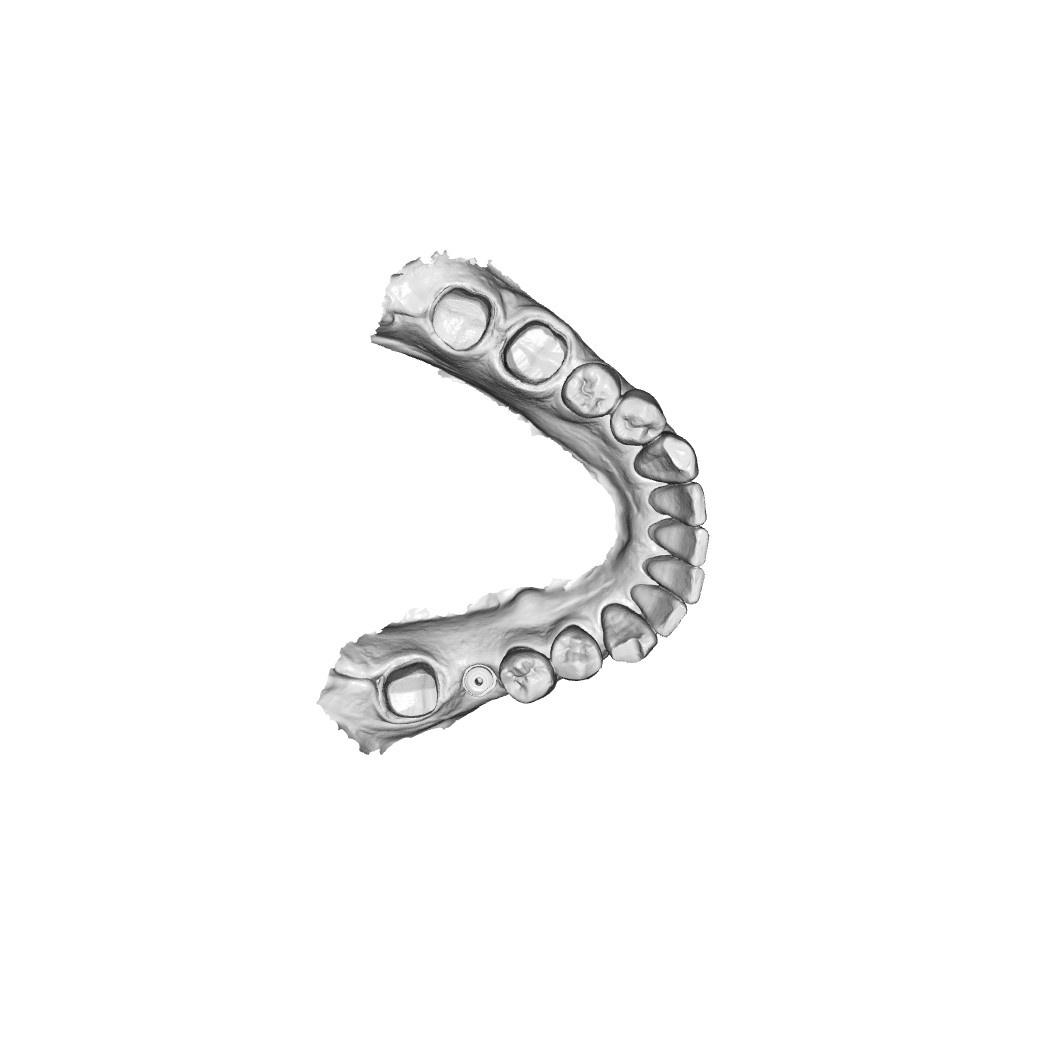canine: (632, 431, 701, 491), (598, 601, 657, 666)
crown: (499, 318, 571, 388), (429, 284, 497, 355), (380, 652, 440, 724)
implant: (463, 661, 496, 697)
incisor: (629, 581, 689, 638), (645, 480, 711, 529), (642, 520, 710, 566), (641, 557, 704, 605)
premolar: (499, 645, 556, 709), (549, 624, 603, 683), (563, 365, 619, 419), (612, 394, 664, 447)
